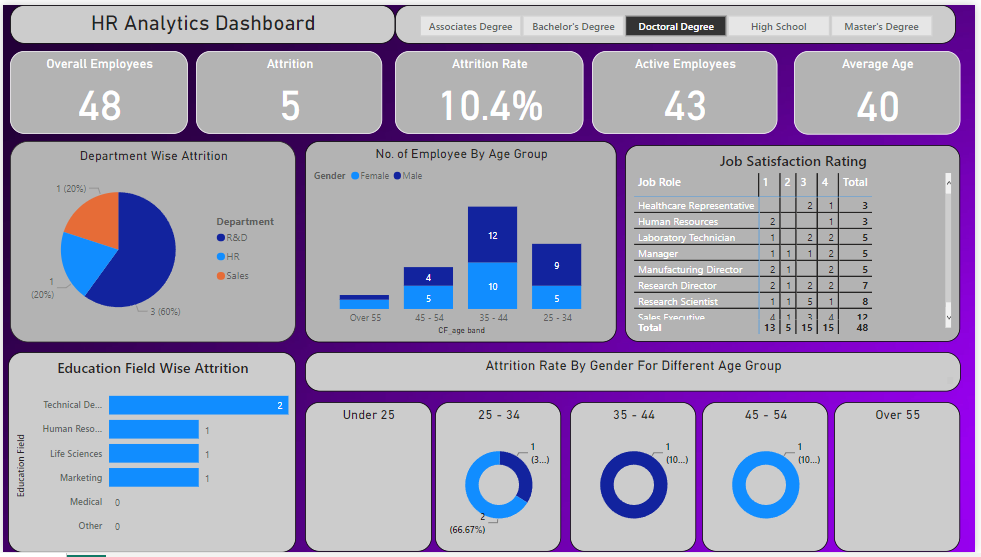

The page's visual inventory and layout, read from the dashboard file:
{"tool":"powerbi","page":{"name":"Page 1","canvas":[1280,720],"ordinal":0},"visuals":[{"type":"card","title":"Overall Employees","fields":{"Values":["Sum(HR data.Employee Count)"]},"box":[9.9,60.6,234,108.5],"z":0},{"type":"card","title":"Attrition","fields":{"Values":["Sum(HR data.Attrition Count)"]},"box":[253.7,60.6,245.3,108.5],"z":1},{"type":"card","title":"Attrition Rate","fields":{"Values":["HR data.Attrition Rate"]},"box":[515.9,60.6,248.1,108.5],"z":2},{"type":"card","title":"Active Employees","fields":{"Values":["HR data.Active Employees"]},"box":[775.3,60.6,243.9,108.5],"z":3},{"type":"card","title":"Average Age","fields":{"Values":["Avg(HR data.Age)"]},"box":[1040.4,60.6,218.5,110],"z":4},{"type":"pieChart","title":"Department Wise Attrition ","fields":{"Category":["HR data.Department"],"Y":["Sum(HR data.Attrition Count)"]},"box":[9.9,179,376.4,265],"z":5},{"type":"columnChart","title":"No. of Employee By Age Group","fields":{"Category":["HR data.CF_age band"],"Y":["Sum(HR data.Employee Count)"],"Series":["HR data.Gender"]},"box":[397.5,179,410.2,265],"z":6},{"type":"pivotTable","title":"Job Satisfaction Rating","fields":{"Rows":["HR data.Job Role"],"Columns":["HR data.Job Satisfaction"],"Values":["Sum(HR data.Employee Count)"]},"box":[819,184.7,441.2,259.4],"z":7},{"type":"barChart","title":"Education Field Wise Attrition","fields":{"Category":["HR data.Education Field"],"Y":["Sum(HR data.Attrition Count)"]},"box":[7,456.7,379.2,263.6],"z":8},{"type":"donutChart","title":"Under 25","fields":{"Category":["HR data.Gender"],"Y":["Sum(HR data.Attrition Count)"],"Series":["HR data.CF_age band"]},"box":[397.8,523,166.5,196.8],"z":9},{"type":"textbox","title":"Attrition Rate By Gender For Different Age Group","box":[397.5,456.7,862.7,52.2],"z":10},{"type":"donutChart","title":"25 - 34","fields":{"Category":["HR data.Gender"],"Y":["Sum(HR data.Attrition Count)"],"Series":["HR data.CF_age band"]},"box":[568.1,523,166.3,197.4],"z":11},{"type":"donutChart","title":"35 - 44","fields":{"Category":["HR data.Gender"],"Y":["Sum(HR data.Attrition Count)"],"Series":["HR data.CF_age band"]},"box":[745.7,523,166.3,197.4],"z":12},{"type":"donutChart","title":"45 - 54","fields":{"Category":["HR data.Gender"],"Y":["Sum(HR data.Attrition Count)"],"Series":["HR data.CF_age band"]},"box":[919.1,523,166.3,197.4],"z":13},{"type":"donutChart","title":"Over 55","fields":{"Category":["HR data.Gender"],"Y":["Sum(HR data.Attrition Count)"],"Series":["HR data.CF_age band"]},"box":[1093.9,523,166.3,197.4],"z":14},{"type":"textbox","title":"HR Analytics Dashboard","box":[9.2,0,506.6,51.3],"z":15},{"type":"slicer","fields":{"Values":["HR data.Education"]},"box":[516.1,0,737.7,50.9],"z":16}]}

Visuals, with their boxes in screenshot pixels (x1, y1, x2, y2), scaled from the page's 1280x720 canvas onto the 981x557 screenshot:
"Overall Employees" card: 8,47,187,131
"Attrition" card: 194,47,382,131
"Attrition Rate" card: 395,47,586,131
"Active Employees" card: 594,47,781,131
"Average Age" card: 797,47,965,132
"Department Wise Attrition " pieChart: 8,138,296,343
"No. of Employee By Age Group" columnChart: 305,138,619,343
"Job Satisfaction Rating" pivotTable: 628,143,966,344
"Education Field Wise Attrition" barChart: 5,353,296,556
"Under 25" donutChart: 305,405,432,556
"Attrition Rate By Gender For Different Age Group" textbox: 305,353,966,394
"25 - 34" donutChart: 435,405,563,556
"35 - 44" donutChart: 572,405,699,556
"45 - 54" donutChart: 704,405,832,556
"Over 55" donutChart: 838,405,966,556
"HR Analytics Dashboard" textbox: 7,0,395,40
slicer - HR data.Education: 396,0,961,39
